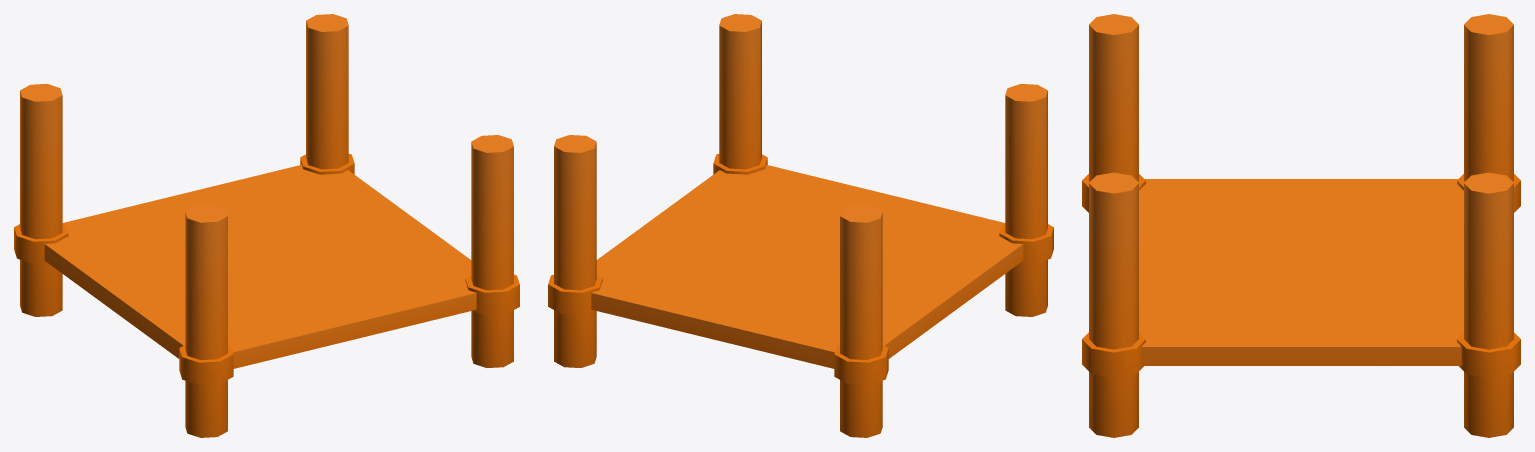
File: Table_Leg_01_S_C03.fbx
3 views of the same model, side by side, from view 1: azimuth 30°, elevation 25°; view 2: azimuth 150°, elevation 25°; view 3: azimuth 270°, elevation 25° (orthographic). The views are drawn at different scales.
Visible parts, largest first — view 1: Table_Leg_01_S_C03; view 2: Table_Leg_01_S_C03; view 3: Table_Leg_01_S_C03.
Part boxes in pixels (left/top/right/bottom): Table_Leg_01_S_C03: left=14, top=14, right=519, bottom=437; Table_Leg_01_S_C03: left=548, top=14, right=1053, bottom=437; Table_Leg_01_S_C03: left=1082, top=14, right=1520, bottom=437.
Bounding box in the file's own units: 87.78 × 53.91 × 87.78.
